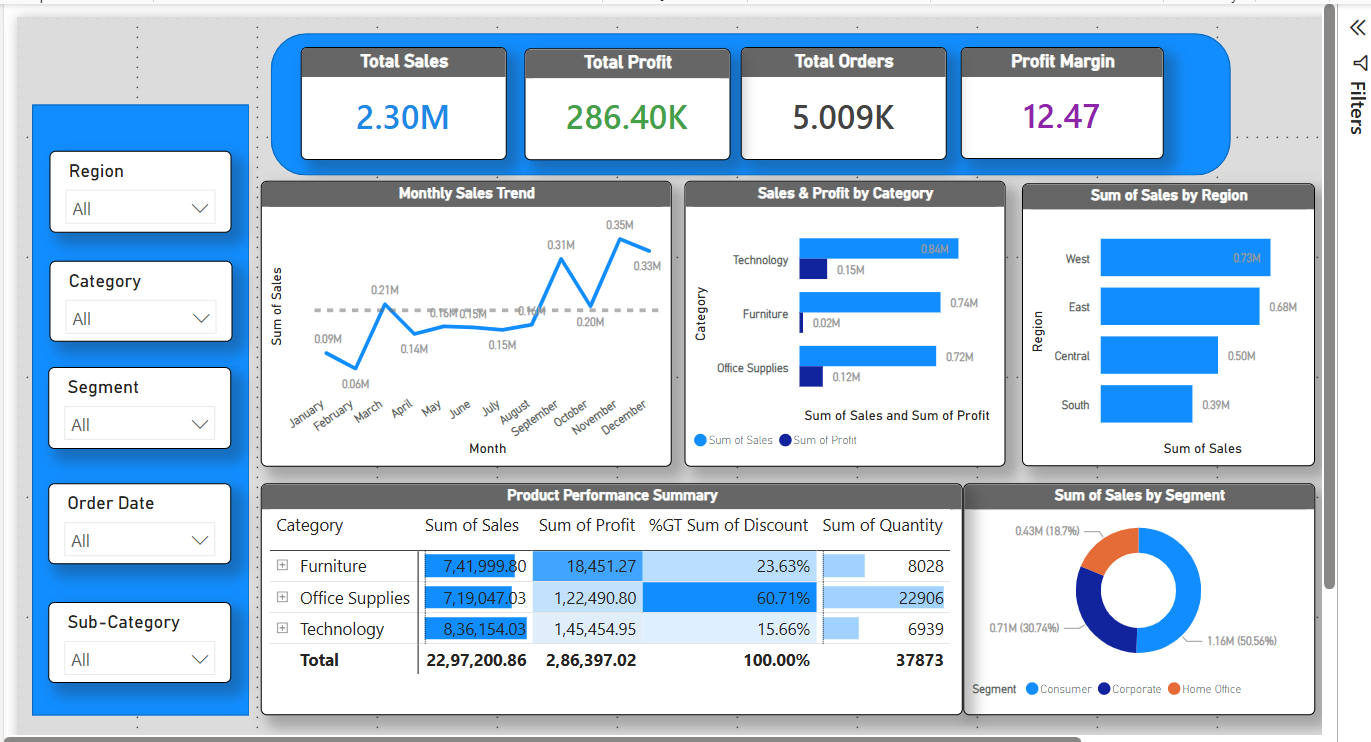

The dashboard page shown, as its layout file describes it:
{"tool":"powerbi","page":{"name":"Page 1","canvas":[1280,720],"ordinal":0},"visuals":[{"type":"shape","box":[12,70,174,489],"z":0},{"type":"shape","box":[203,13,768,114],"z":1000},{"type":"cardVisual","title":"Total Sales","fields":{"Data":["Sum(Sample - Superstore.Sales)"]},"box":[227,24,165,91],"z":2000},{"type":"cardVisual","title":"Profit Margin","fields":{"Data":["Sample - Superstore.Profit Margin"]},"box":[755,24,163,90],"z":3000},{"type":"cardVisual","title":"Total Orders","fields":{"Data":["Count(Sample - Superstore.Order ID)"]},"box":[579,24,165,91],"z":4000},{"type":"cardVisual","title":"Total Profit","fields":{"Data":["Sum(Sample - Superstore.Profit)"]},"box":[406,25,165,90],"z":5000},{"type":"lineChart","title":"Monthly Sales Trend","fields":{"Category":["Sample - Superstore.Order Date.Variation.Date Hierarchy.Month"],"Y":["Sum(Sample - Superstore.Sales)"]},"box":[195,131,329,229],"z":6000},{"type":"slicer","fields":{"Values":["Sample - Superstore.Region"]},"box":[26,107,146,66],"z":7000},{"type":"slicer","fields":{"Values":["Sample - Superstore.Category"]},"box":[26,195,147,65],"z":8000},{"type":"slicer","fields":{"Values":["Sample - Superstore.Segment"]},"box":[25,280,147,66],"z":9000},{"type":"slicer","fields":{"Values":["Sample - Superstore.Order Date"]},"box":[25,373,147,65],"z":10000},{"type":"slicer","fields":{"Values":["Sample - Superstore.Sub-Category"]},"box":[25,468,147,65],"z":11000},{"type":"clusteredBarChart","title":"Sales & Profit by Category","fields":{"Category":["Sample - Superstore.Category"],"Y":["Sum(Sample - Superstore.Sales)","Sum(Sample - Superstore.Profit)"]},"box":[534,131,257,229],"z":12000},{"type":"clusteredBarChart","fields":{"Category":["Sample - Superstore.Region"],"Y":["Sum(Sample - Superstore.Sales)"]},"box":[804,133,235,227],"z":13000},{"type":"donutChart","fields":{"Category":["Sample - Superstore.Segment"],"Y":["Sum(Sample - Superstore.Sales)"]},"box":[757,373,282,186],"z":14000},{"type":"pivotTable","title":"Product Performance Summary","fields":{"Rows":["Sample - Superstore.Category","Sample - Superstore.Product Name"],"Values":["Sum(Sample - Superstore.Sales)","Sum(Sample - Superstore.Profit)","Sum(Sample - Superstore.Discount)","Sum(Sample - Superstore.Quantity)"]},"box":[195,373,562,186],"z":14001}]}

Visuals, with their boxes on the page's 1280x720 design canvas (x1, y1, x2, y2). These are canvas units, not pixel positions in the 1371x742 screenshot, which may show the page scaled, cropped or inside an application window:
shape: {"left": 12, "top": 70, "right": 186, "bottom": 559}
shape: {"left": 203, "top": 13, "right": 971, "bottom": 127}
"Total Sales" cardVisual: {"left": 227, "top": 24, "right": 392, "bottom": 115}
"Profit Margin" cardVisual: {"left": 755, "top": 24, "right": 918, "bottom": 114}
"Total Orders" cardVisual: {"left": 579, "top": 24, "right": 744, "bottom": 115}
"Total Profit" cardVisual: {"left": 406, "top": 25, "right": 571, "bottom": 115}
"Monthly Sales Trend" lineChart: {"left": 195, "top": 131, "right": 524, "bottom": 360}
slicer - Sample - Superstore.Region: {"left": 26, "top": 107, "right": 172, "bottom": 173}
slicer - Sample - Superstore.Category: {"left": 26, "top": 195, "right": 173, "bottom": 260}
slicer - Sample - Superstore.Segment: {"left": 25, "top": 280, "right": 172, "bottom": 346}
slicer - Sample - Superstore.Order Date: {"left": 25, "top": 373, "right": 172, "bottom": 438}
slicer - Sample - Superstore.Sub-Category: {"left": 25, "top": 468, "right": 172, "bottom": 533}
"Sales & Profit by Category" clusteredBarChart: {"left": 534, "top": 131, "right": 791, "bottom": 360}
clusteredBarChart - Sample - Superstore.Region x Sum(Sample - Superstore.Sales): {"left": 804, "top": 133, "right": 1039, "bottom": 360}
donutChart - Sample - Superstore.Segment x Sum(Sample - Superstore.Sales): {"left": 757, "top": 373, "right": 1039, "bottom": 559}
"Product Performance Summary" pivotTable: {"left": 195, "top": 373, "right": 757, "bottom": 559}
